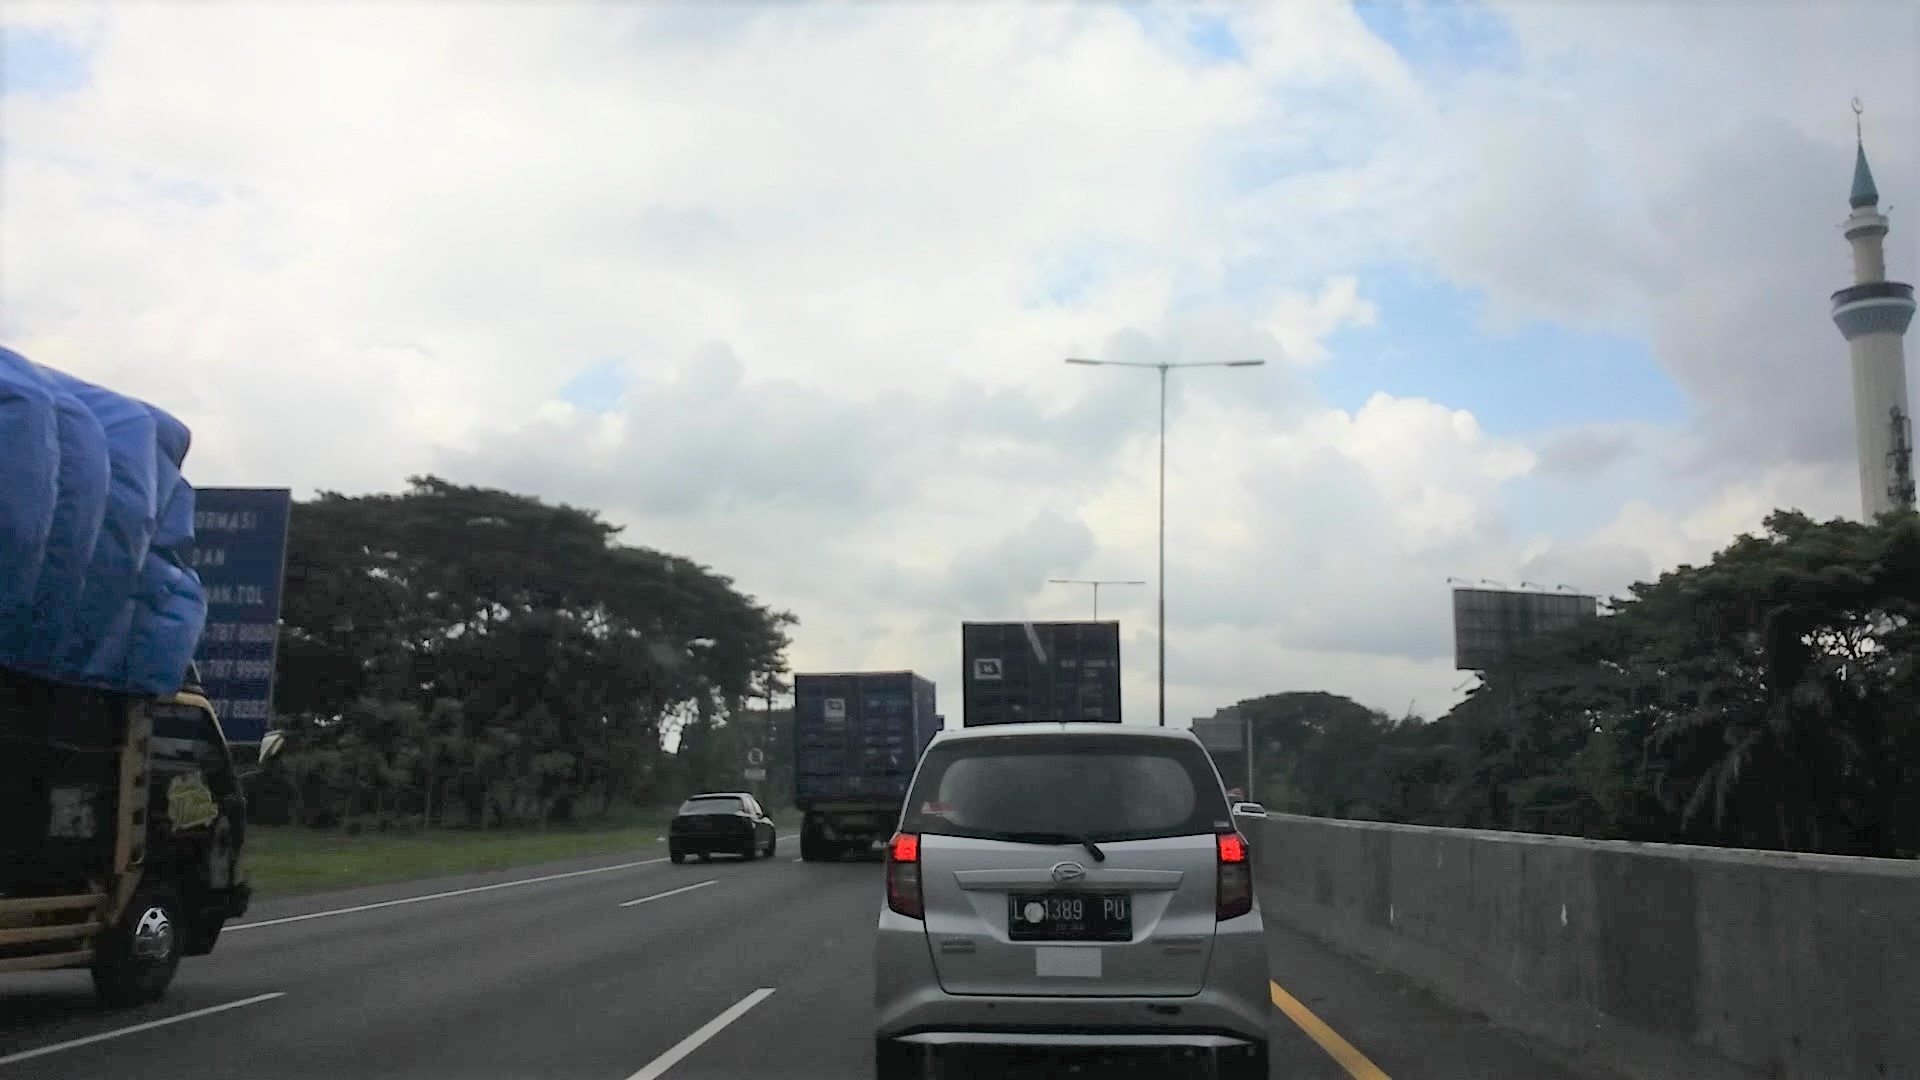plate_positive: (1009, 891, 1131, 942)
